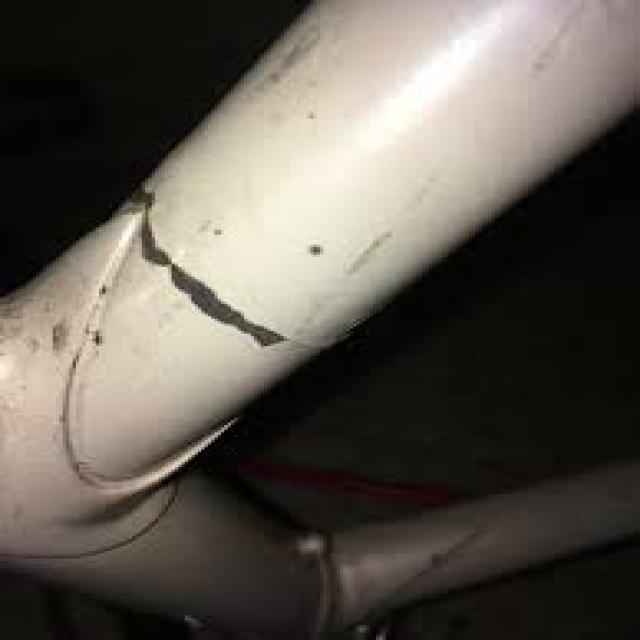crack: (129, 187, 289, 351)
